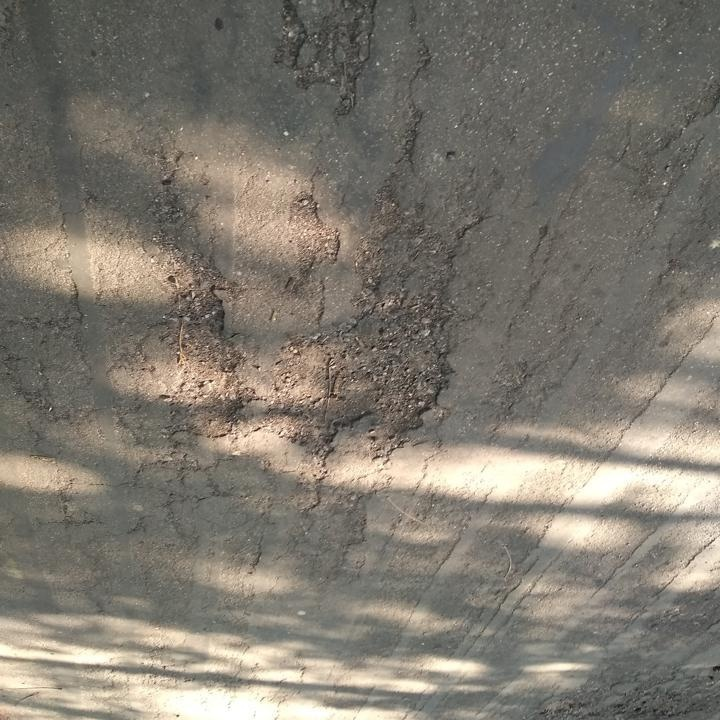pothole: (254, 295, 455, 463), (159, 267, 245, 442)
